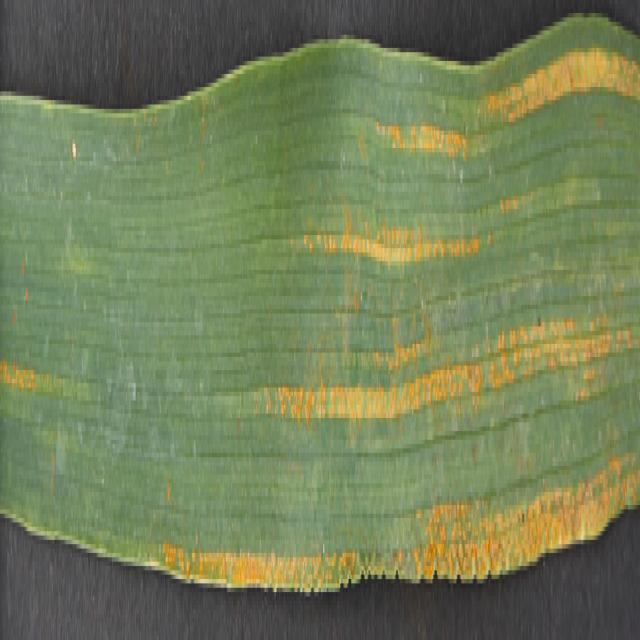leaf rust: (143, 30, 640, 592), (1, 283, 82, 475)
